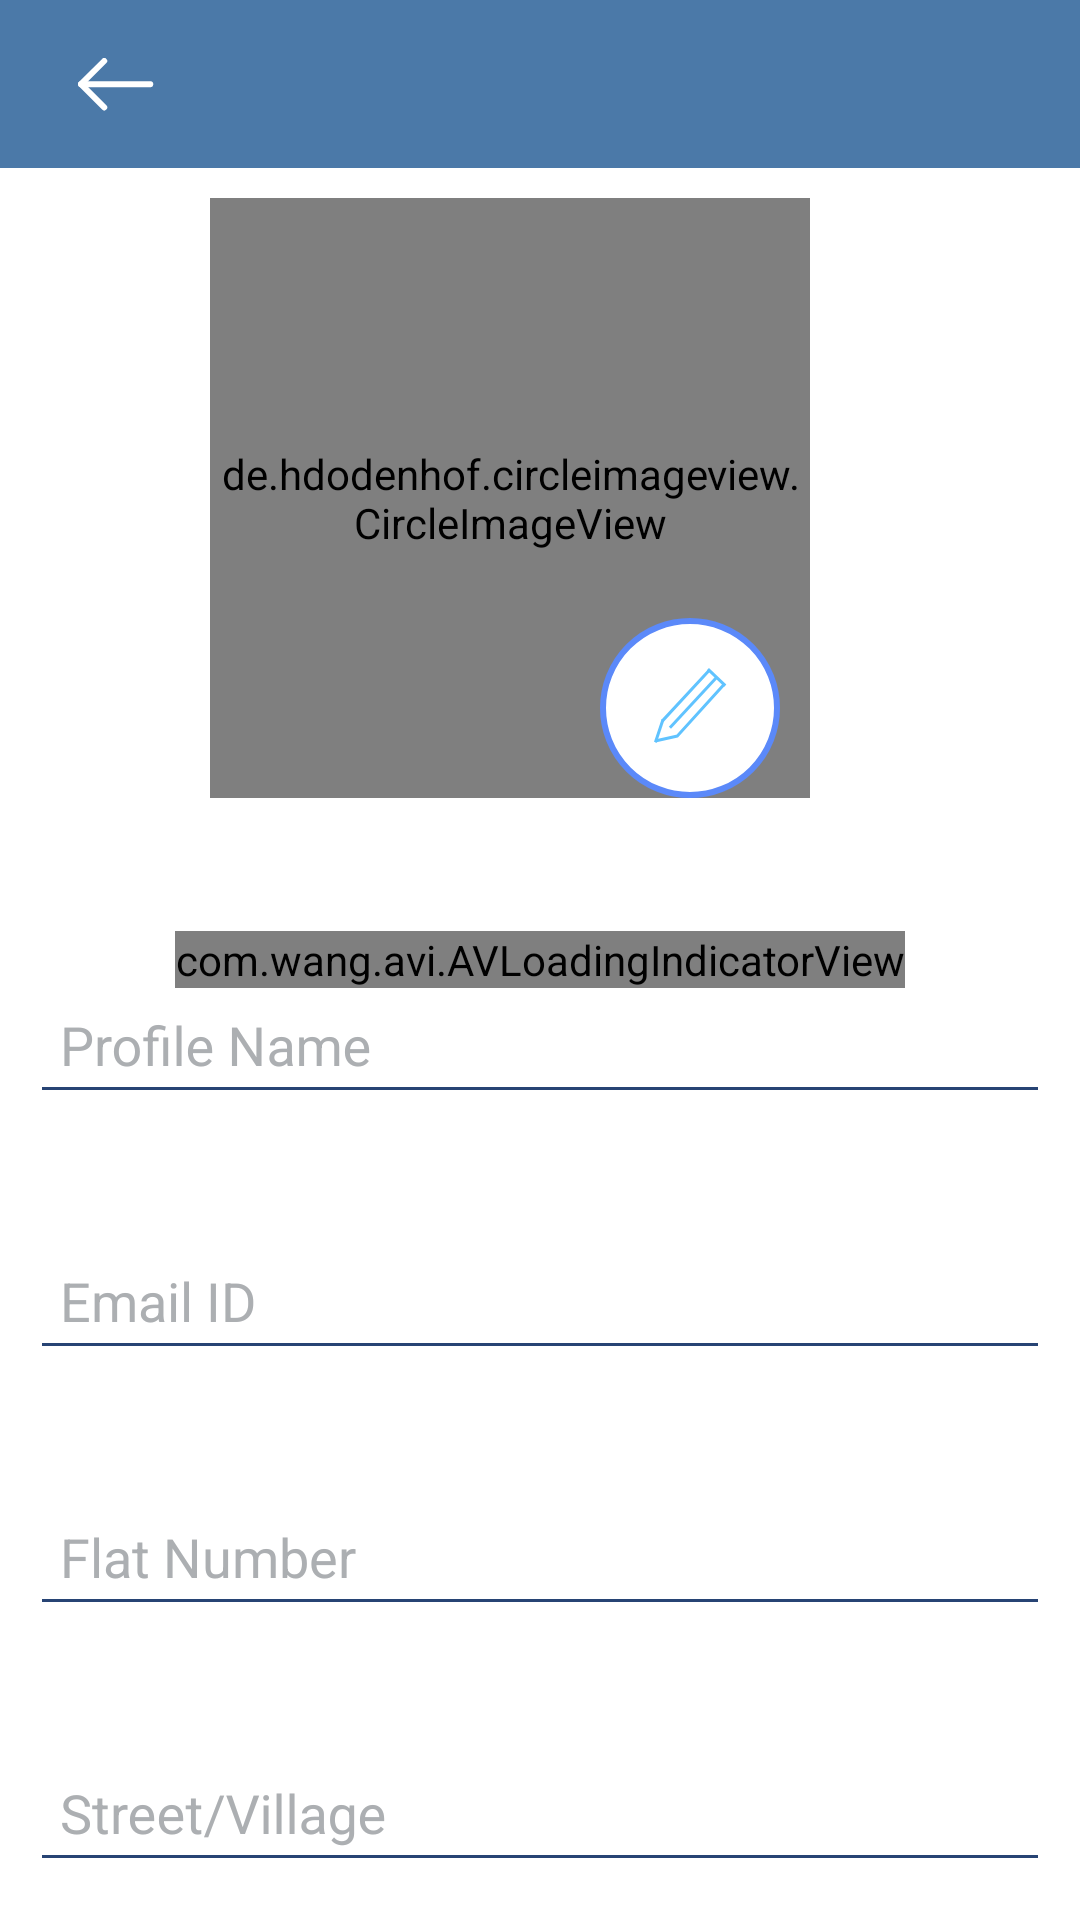

Screen size 1080 x 1920. Icon name, then its box in pixels as (x1, y1, x2, y2):
back: (78, 58, 154, 111)
pencil: (600, 618, 780, 798)
